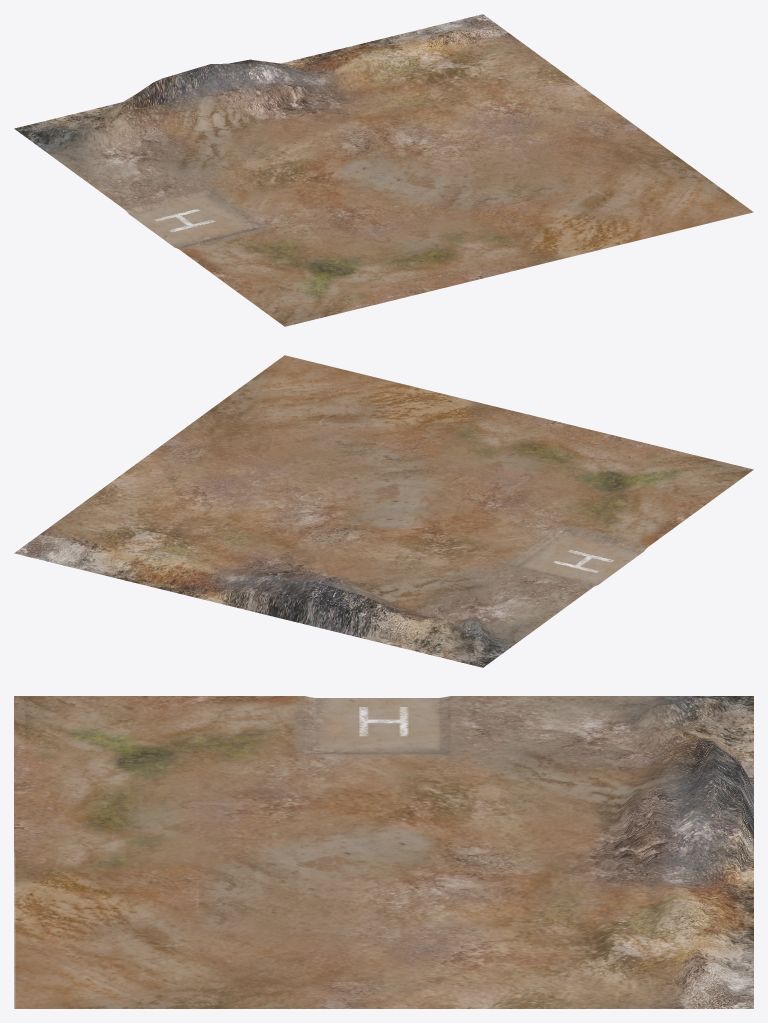
The model's file is Ground.FBX.
3 renders of one model, top to bottom at view 1: azimuth 30°, elevation 25°; view 2: azimuth 150°, elevation 25°; view 3: azimuth 270°, elevation 25°, orthographic. The views are drawn at different scales.
Parts seen in each view (by area): view 1: Ground; view 2: Ground; view 3: Ground.
Part boxes in pixels (bbox=[...]): Ground: bbox=[14, 14, 753, 326]; Ground: bbox=[14, 355, 753, 667]; Ground: bbox=[14, 696, 753, 1008].
Bounding box in the file's own units: 3150 × 206 × 3150.
